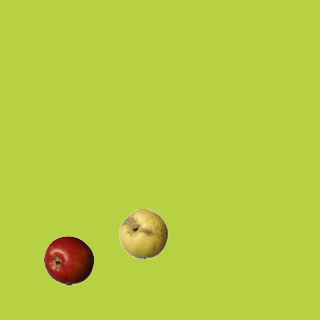Apple Braeburn: (43, 235, 93, 285)
Apple Golden 1: (118, 208, 168, 258)
